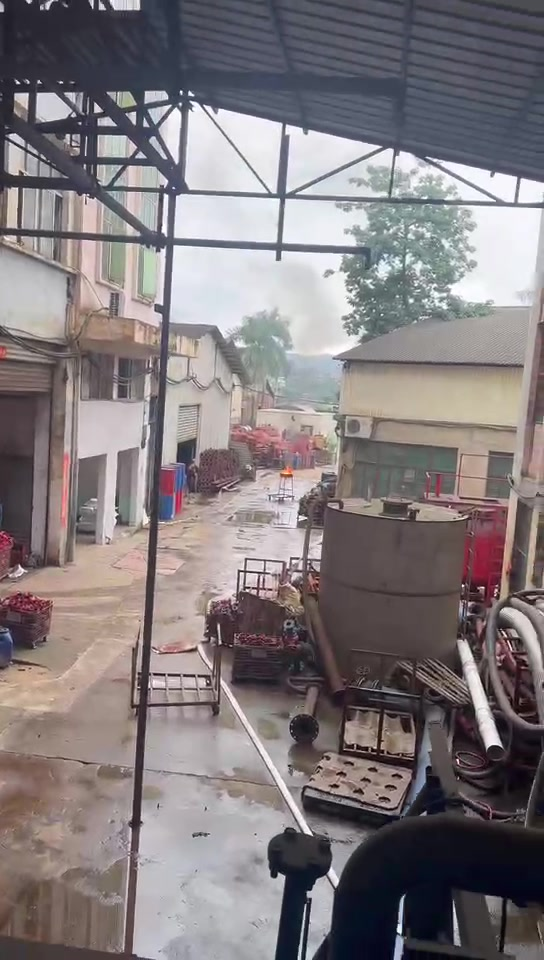fire: (280, 462, 293, 475)
